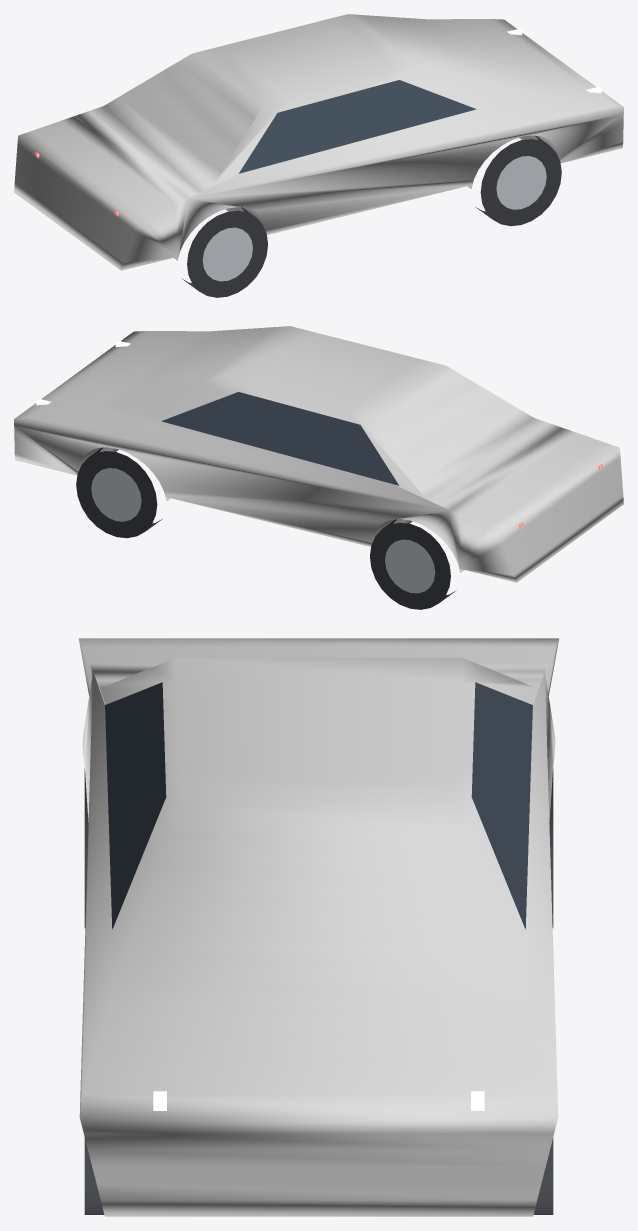
Rendered from ronin_gx.glb.
3 renders of one model, top to bottom at view 1: azimuth 30°, elevation 25°; view 2: azimuth 150°, elevation 25°; view 3: azimuth 270°, elevation 25°, orthographic. The views are drawn at different scales.
Parts seen in each view (by area): view 1: Car; view 2: Car; view 3: Car.
Part boxes in pixels (x1,y1,x2,y2): Car: (14, 14, 623, 297); Car: (14, 326, 623, 609); Car: (78, 638, 559, 1216).
Bounding box in the file's own units: 3.76 × 1.16 × 1.56.
